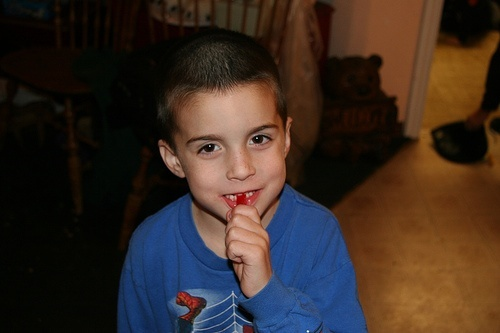head: (158, 31, 293, 224)
person: (120, 23, 370, 330)
